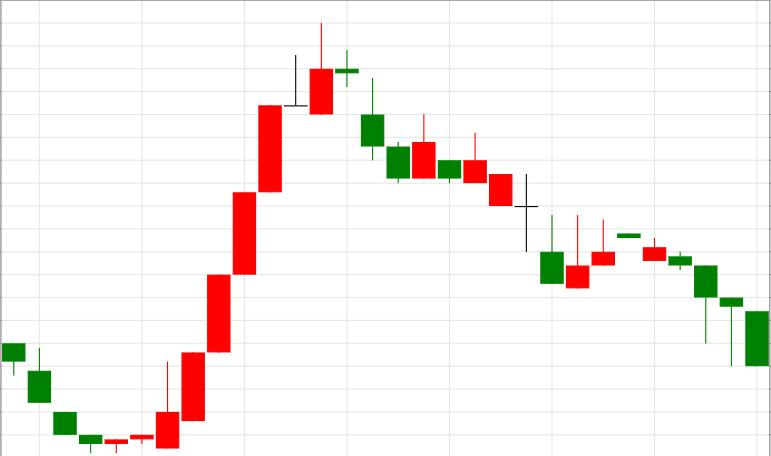three_white_soldiers_rise: (2, 192, 256, 453)
